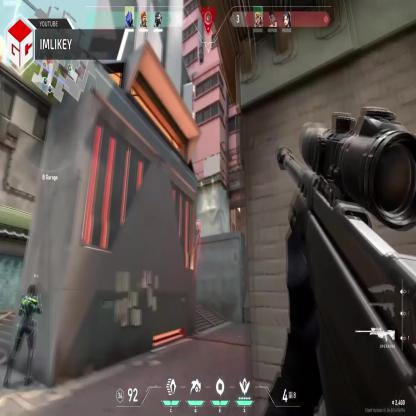enemy: (196, 218, 202, 242)
enemy_head: (198, 219, 200, 223)
